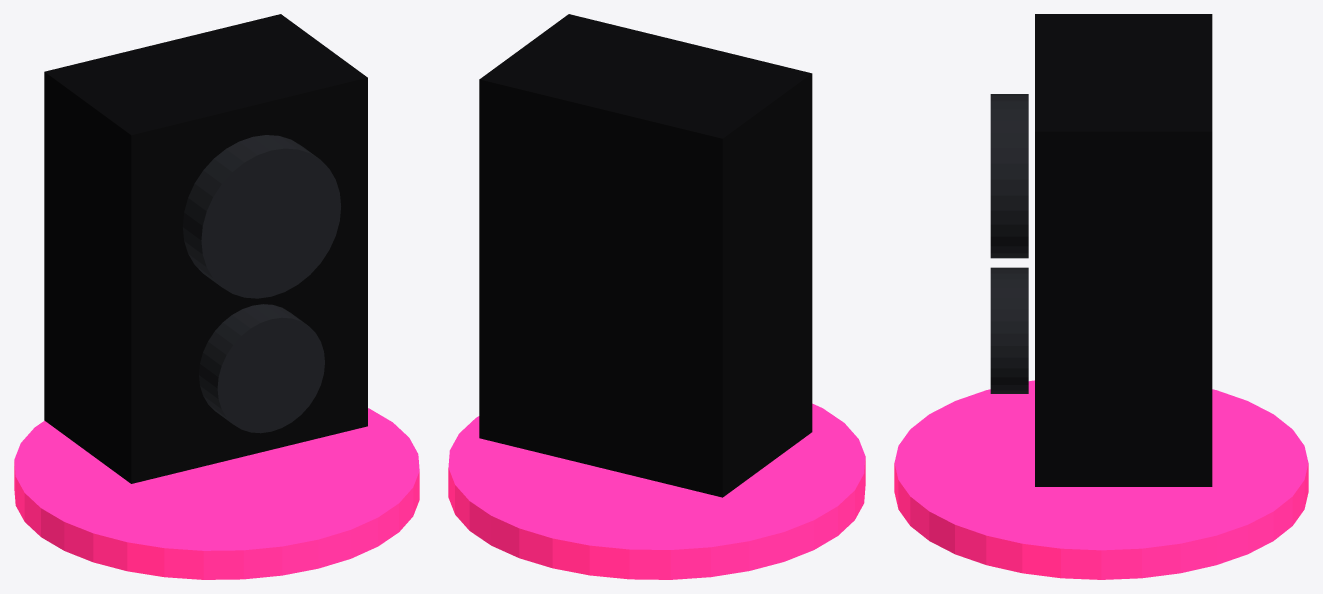
The model's file is music_studio_monitor.dae.
The picture shows the model from 3 angles, left to right: view 1: azimuth 30°, elevation 25°; view 2: azimuth 150°, elevation 25°; view 3: azimuth 270°, elevation 25°; orthographic projection. The views are drawn at different scales.
Visible parts, largest first — view 1: 07_19_Popular_Music_Studio_Monitor_part_01, 07_19_Popular_Music_Studio_Monitor_ROOT_base, 07_19_Popular_Music_Studio_Monitor_part_02, 07_19_Popular_Music_Studio_Monitor_part_03; view 2: 07_19_Popular_Music_Studio_Monitor_part_01, 07_19_Popular_Music_Studio_Monitor_ROOT_base; view 3: 07_19_Popular_Music_Studio_Monitor_part_01, 07_19_Popular_Music_Studio_Monitor_ROOT_base, 07_19_Popular_Music_Studio_Monitor_part_02, 07_19_Popular_Music_Studio_Monitor_part_03.
Part boxes in pixels (x1,y1,x2,y2): 07_19_Popular_Music_Studio_Monitor_part_01: [44, 14, 367, 483]; 07_19_Popular_Music_Studio_Monitor_ROOT_base: [14, 408, 419, 579]; 07_19_Popular_Music_Studio_Monitor_part_02: [183, 135, 340, 298]; 07_19_Popular_Music_Studio_Monitor_part_03: [199, 304, 324, 433]; 07_19_Popular_Music_Studio_Monitor_part_01: [479, 14, 812, 497]; 07_19_Popular_Music_Studio_Monitor_ROOT_base: [448, 403, 865, 579]; 07_19_Popular_Music_Studio_Monitor_part_01: [1035, 14, 1212, 486]; 07_19_Popular_Music_Studio_Monitor_ROOT_base: [894, 380, 1308, 579]; 07_19_Popular_Music_Studio_Monitor_part_02: [990, 94, 1028, 258]; 07_19_Popular_Music_Studio_Monitor_part_03: [990, 267, 1028, 393].
Bounding box in the file's own units: 0.76 × 0.85 × 0.76.
